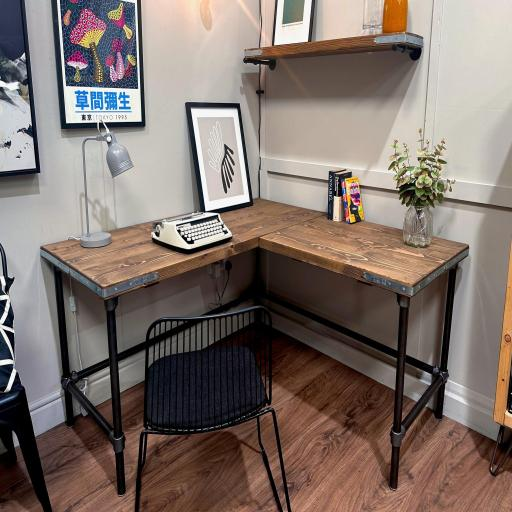table: (35, 196, 465, 468)
